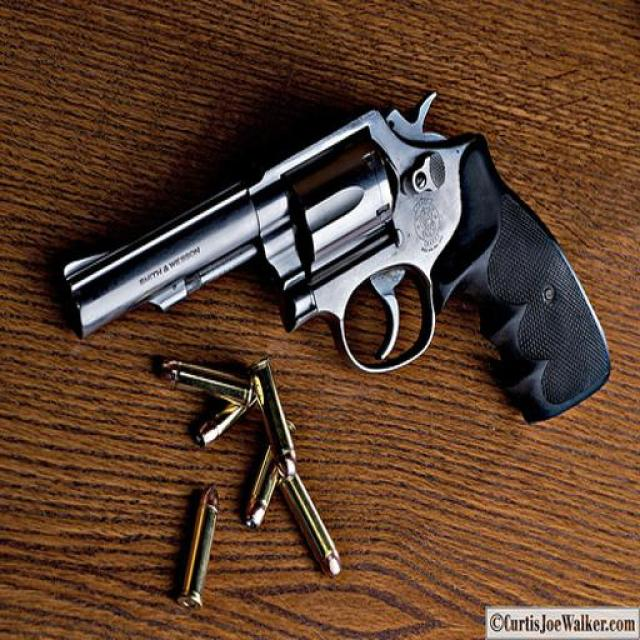pistol: (60, 77, 616, 455)
